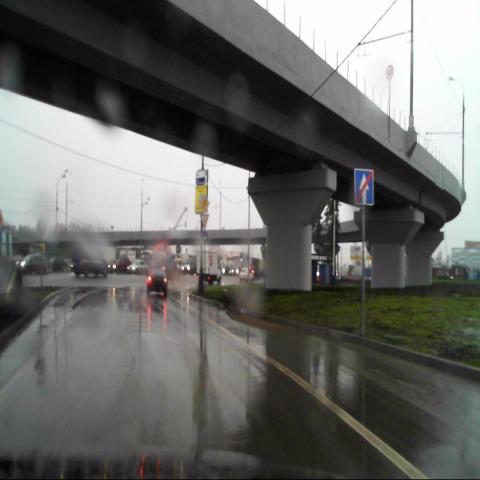5_6: (354, 170, 374, 205)
